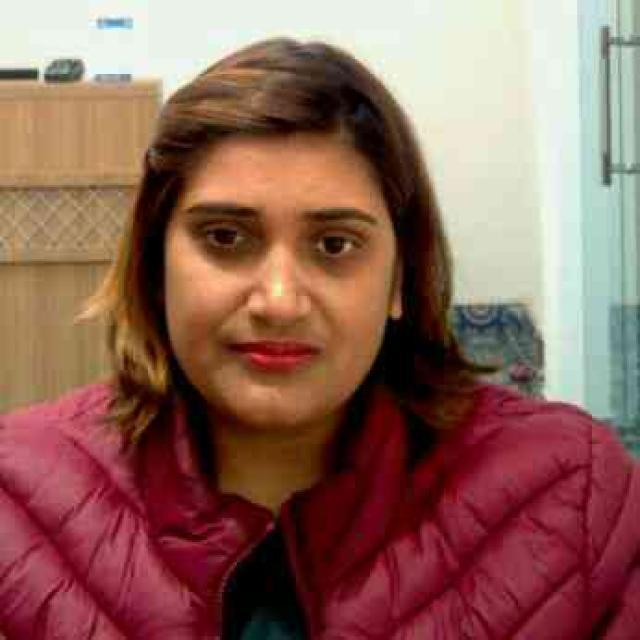puffy_eyes: (196, 234, 270, 270), (300, 255, 368, 279)
